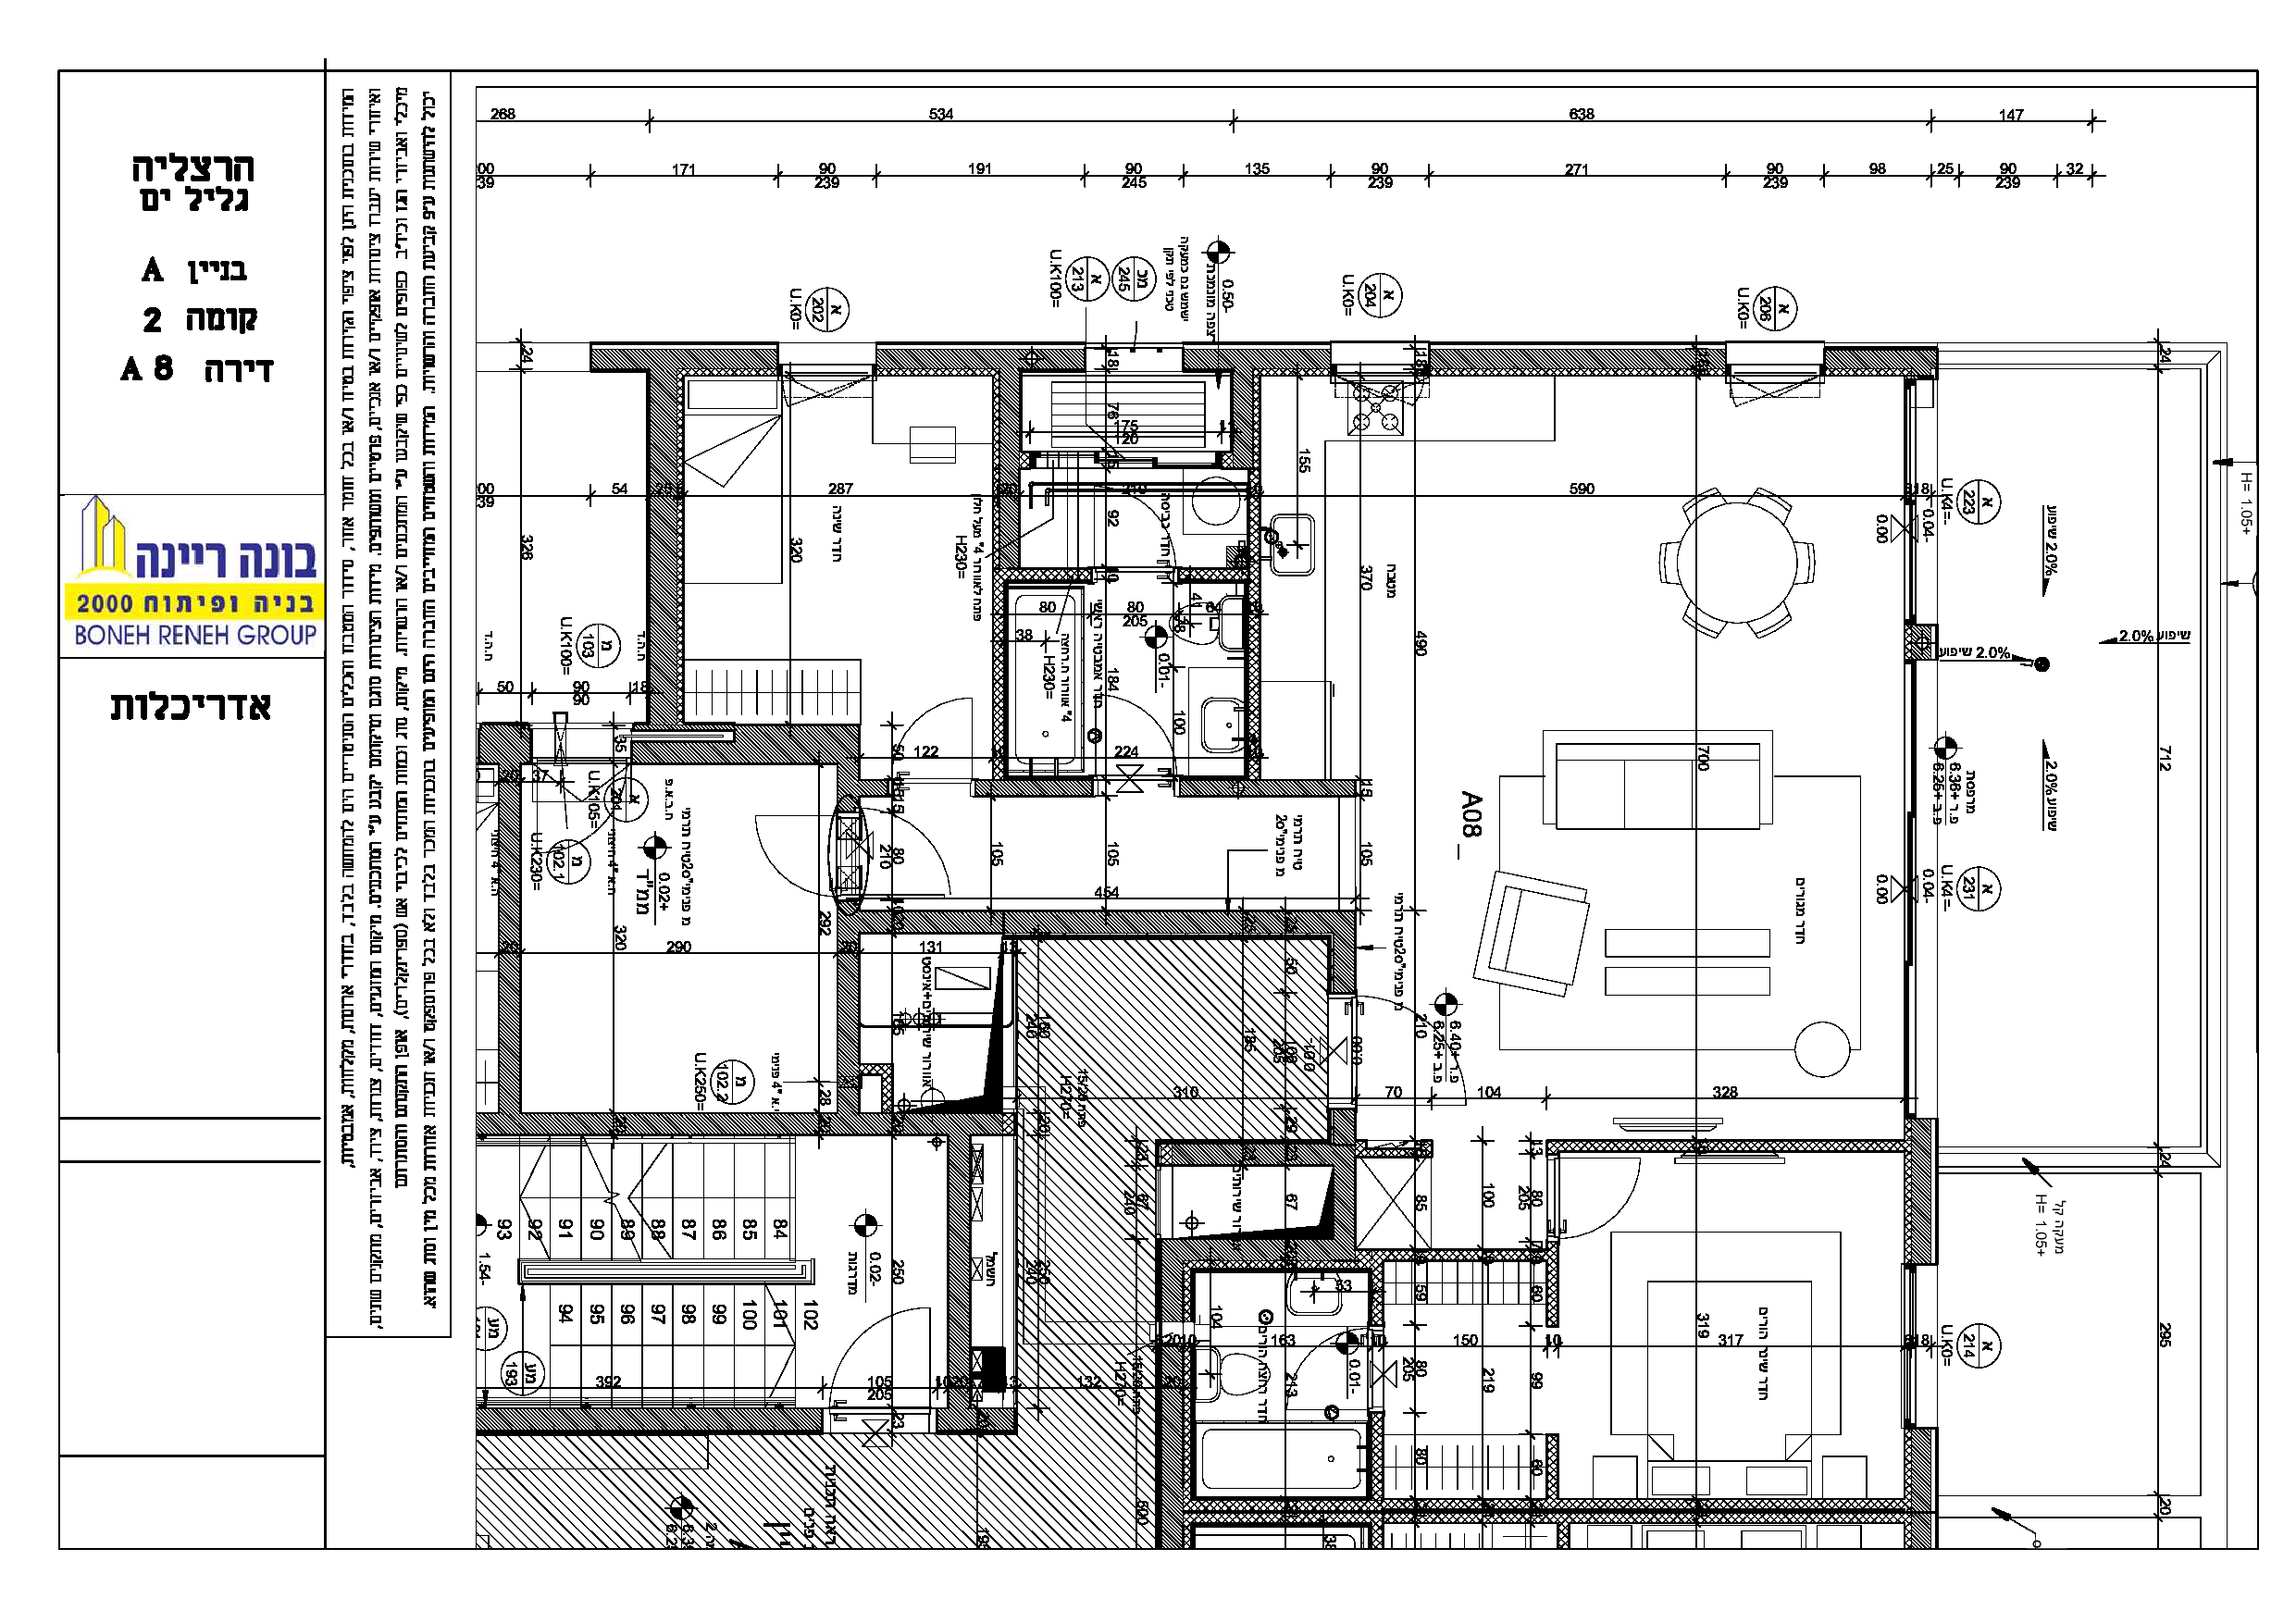door: (1374, 987, 1470, 1103), (834, 1303, 936, 1382), (1101, 690, 1166, 750)
wall: (840, 910, 1354, 936), (487, 1112, 1007, 1135), (497, 724, 522, 1135), (650, 351, 675, 720), (474, 1407, 820, 1430), (945, 1114, 970, 1388), (836, 912, 861, 1133), (1430, 351, 1692, 369), (1161, 1345, 1182, 1549), (1001, 350, 1021, 564), (1173, 1143, 1353, 1166), (634, 745, 856, 762), (592, 351, 776, 371), (738, 729, 854, 759), (1180, 778, 1358, 797), (1163, 1240, 1354, 1258), (877, 351, 1084, 367), (1911, 1117, 1932, 1263), (1186, 350, 1330, 367), (1233, 348, 1253, 469), (1825, 350, 1936, 365), (938, 1409, 1015, 1428), (978, 783, 1089, 794)
